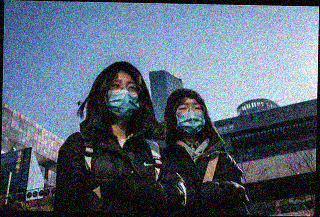with_mask: (103, 77, 140, 125), (175, 100, 207, 137)
